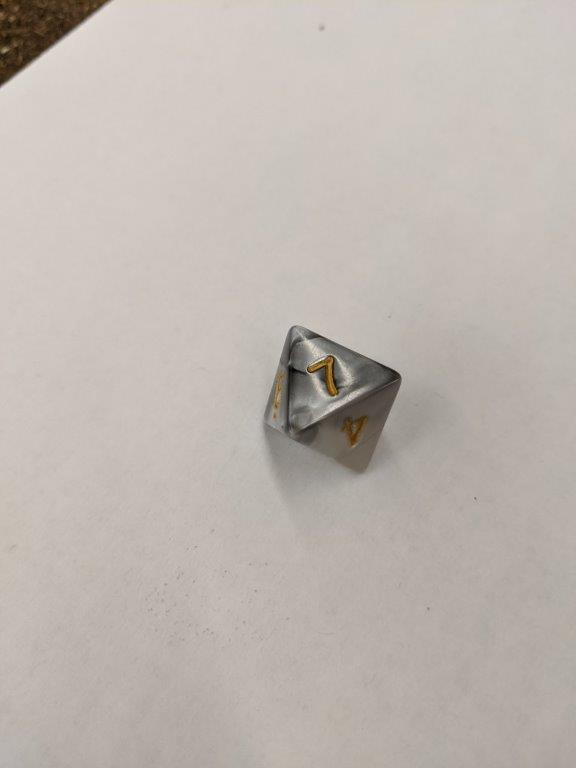d8-7: (262, 328, 400, 476)
